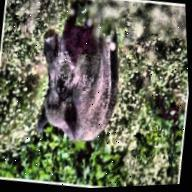boar: (27, 0, 132, 149)
